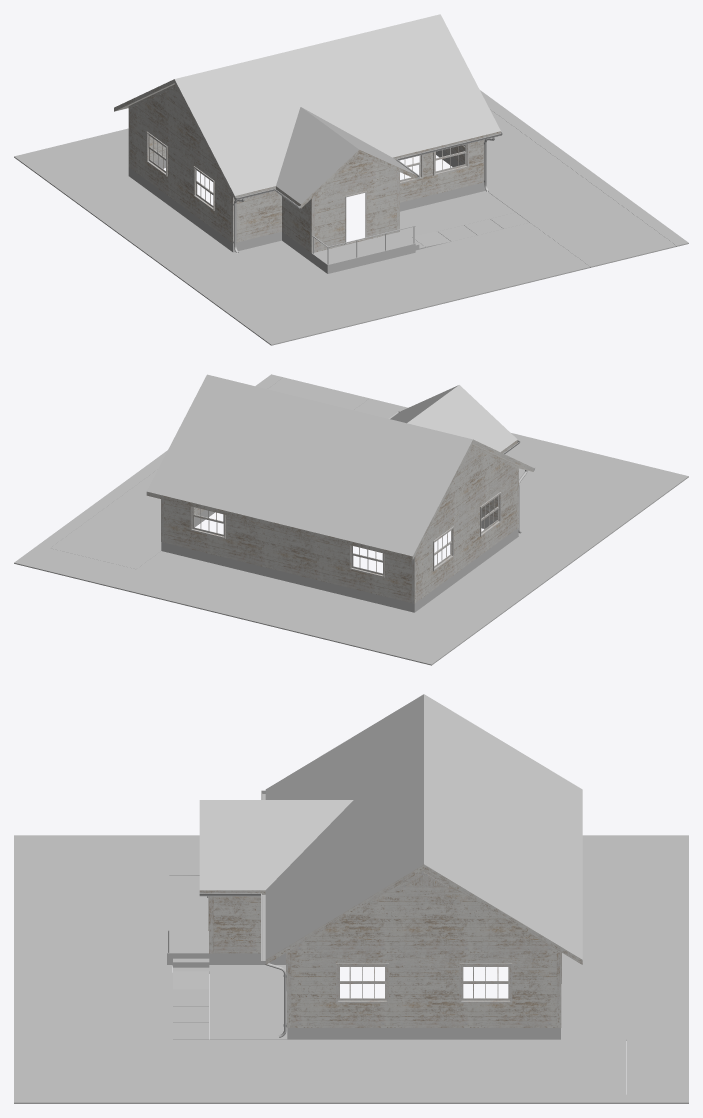
The model's file is casa para iluminar 68.fbx.
The picture shows the model from 3 angles, top to bottom: view 1: azimuth 30°, elevation 25°; view 2: azimuth 150°, elevation 25°; view 3: azimuth 270°, elevation 25°; orthographic projection. The views are drawn at different scales.
Visible parts, largest first — view 1: Material2.009, Material2.007, Material2.005, Material2.004, Material2.006, Material2.003, Material2.008; view 2: Material2.009, Material2.007, Material2.005, Material2.004, Material2.006; view 3: Material2.009, Material2.007, Material2.005, Material2.004, Material2.003, Material2.006, Material2.008.
Boxes of the visible parts, x1,y1,x2,y2 form: Material2.009: (14,90,688,345); Material2.007: (174,14,500,203); Material2.005: (114,79,500,253); Material2.004: (487,109,676,267); Material2.006: (128,150,485,273); Material2.003: (311,212,529,267); Material2.008: (233,132,502,253); Material2.009: (14,374,688,665); Material2.007: (146,374,517,556); Material2.005: (146,439,533,603); Material2.004: (50,377,369,569); Material2.006: (161,510,518,612); Material2.009: (14,835,688,1103); Material2.007: (199,694,582,959); Material2.005: (199,864,582,1027); Material2.004: (14,1039,626,1094); Material2.003: (167,897,209,1039); Material2.006: (167,953,560,1039); Material2.008: (199,790,286,1037).
Size of the model in its own units: 3603 by 1136 by 3845.
